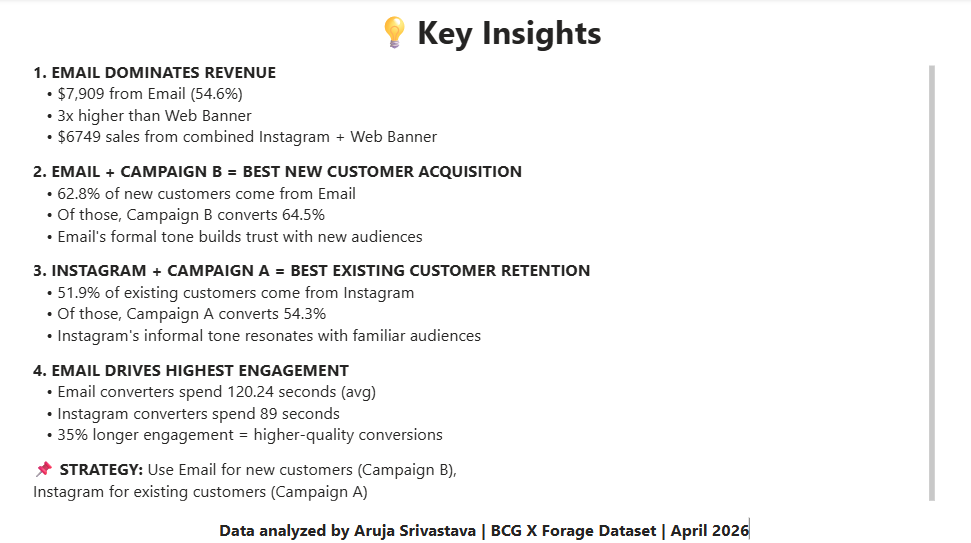

What the dashboard file says about the page in this screenshot:
{"tool":"powerbi","page":{"name":"Key Insights","canvas":[1280,720],"ordinal":2},"visuals":[{"type":"textbox","box":[424.5,9.4,432.5,71],"z":0},{"type":"textbox","box":[37.9,80.6,1198.1,586.4],"z":1},{"type":"textbox","box":[124.9,679.7,1025.8,41.1],"z":2}]}

Visuals, with their boxes in screenshot pixels (x1, y1, x2, y2), scaled from the page's 1280x720 canvas onto the 971x543 screenshot:
textbox: 322,7,650,61
textbox: 29,61,938,503
textbox: 95,513,873,542
